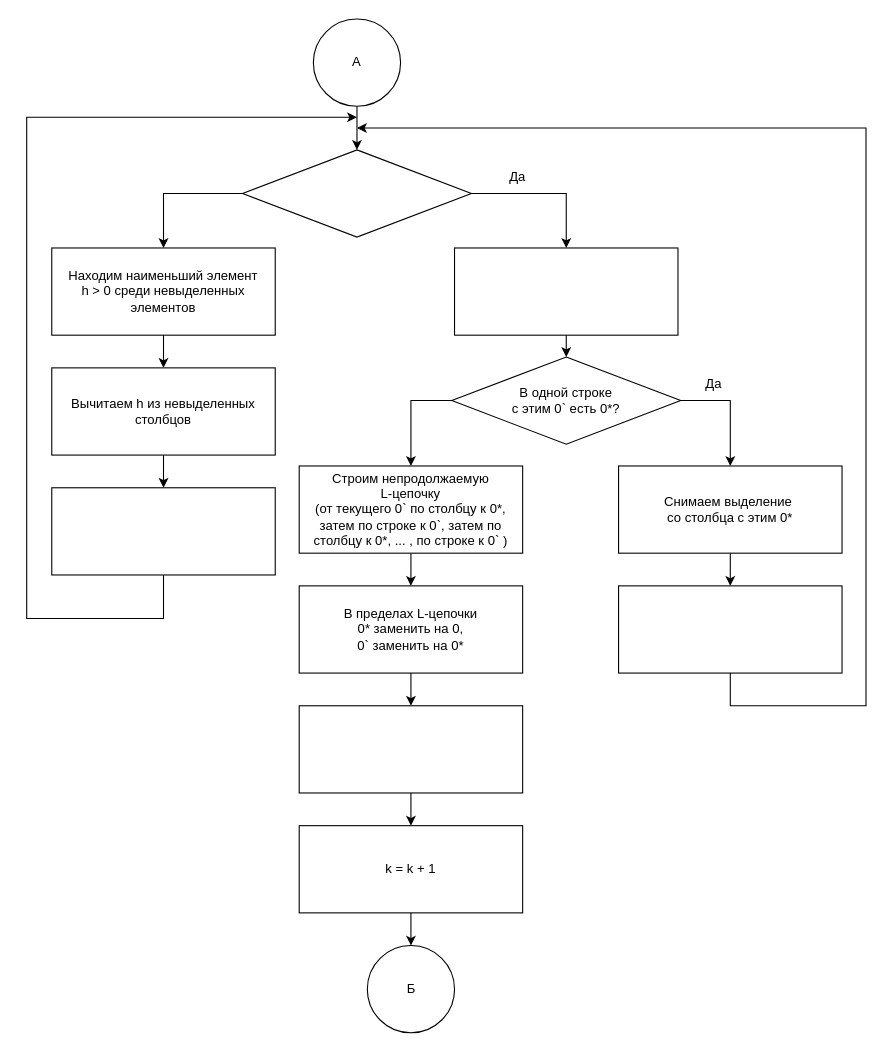
Some shapes in this 894 by 1052 pixel diagram are drawn without their labels. The shapes that lost their labels are listed below. From the top down, each one's box as (x1, y1, x2, y2) in pixels, then its label:
(241, 149, 471, 237): Среди невыделенных элементов есть 0?
(453, 247, 678, 335): Отмечаем его как 0`
(51, 487, 275, 575): Добавляем h к выделенным строкам
(617, 585, 842, 673): Выделяем строку с этим 0`
(298, 705, 523, 793): Снимаем все выделения, кроме 0*
